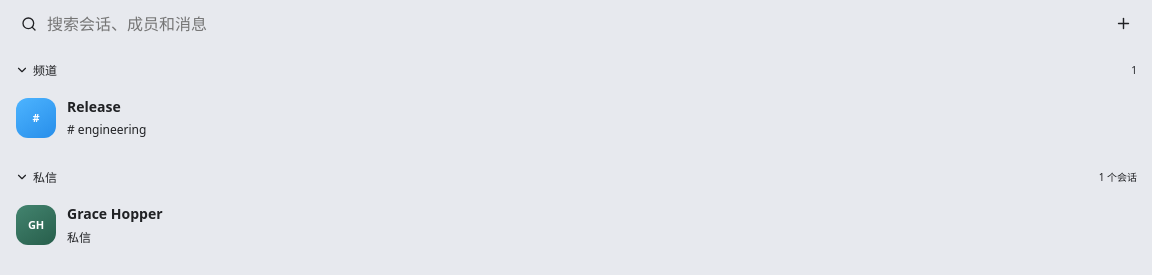
ConversationPane groups › collapses channels and direct messages independently with accessible buttons
Check: the button "# Release # engineering" is shown, box [8,84,1144,151]
Check: the button "GH Grace Hopper 私信" is shown, box [8,191,1144,258]
Click the button named "频道1": click(22, 70) [8,55,1144,84]
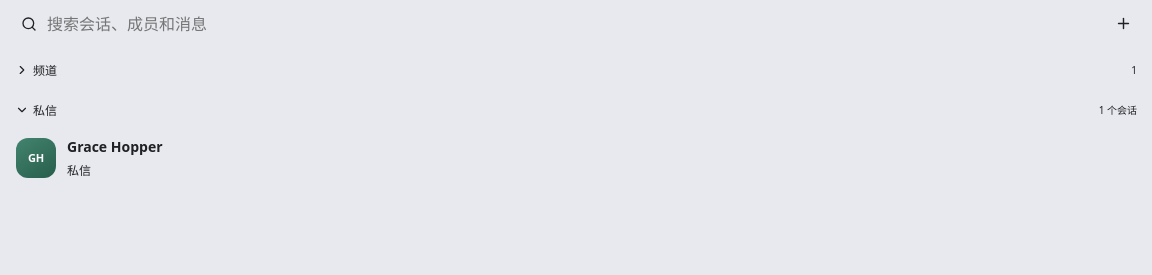
Check: the button "GH Grace Hopper 私信" is shown, box [8,124,1144,191]
Check: the button named "频道1" is collapsed, box [8,55,1144,84]
Check: the button "Release" is gone
Click the button named "私信1 个会话": click(1121, 110) [8,95,1144,124]
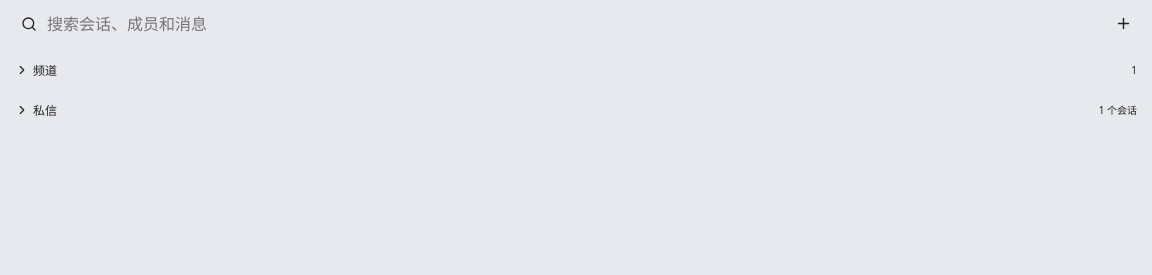
Check: the button named "私信1 个会话" is collapsed, box [8,95,1144,124]
Check: the button "Grace Hopper" is gone
